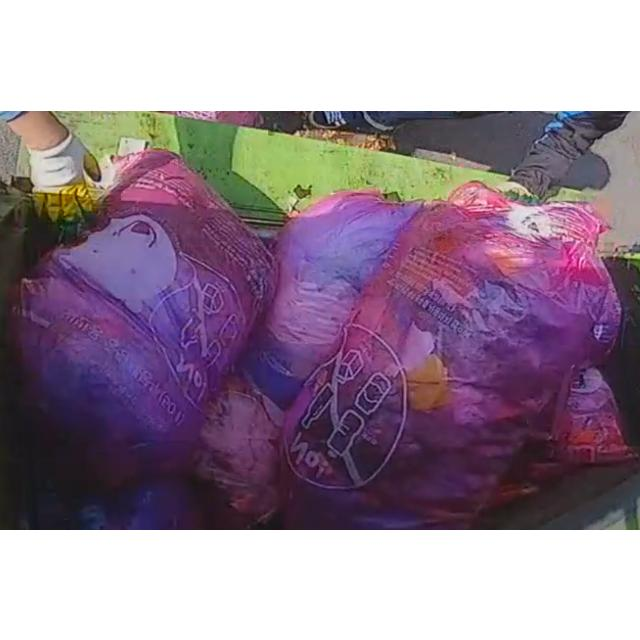other_trashbag: (284, 182, 620, 528), (21, 150, 272, 441), (245, 191, 421, 406), (198, 374, 284, 520), (551, 366, 635, 464)
